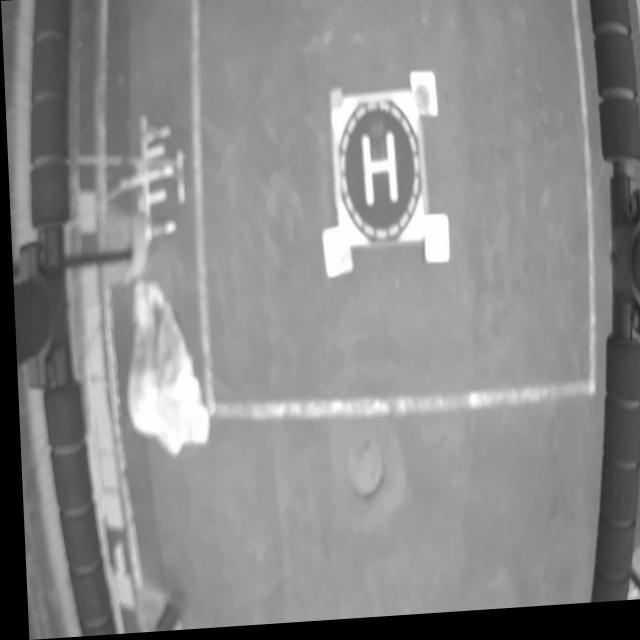Helipad: (358, 133, 395, 210)
